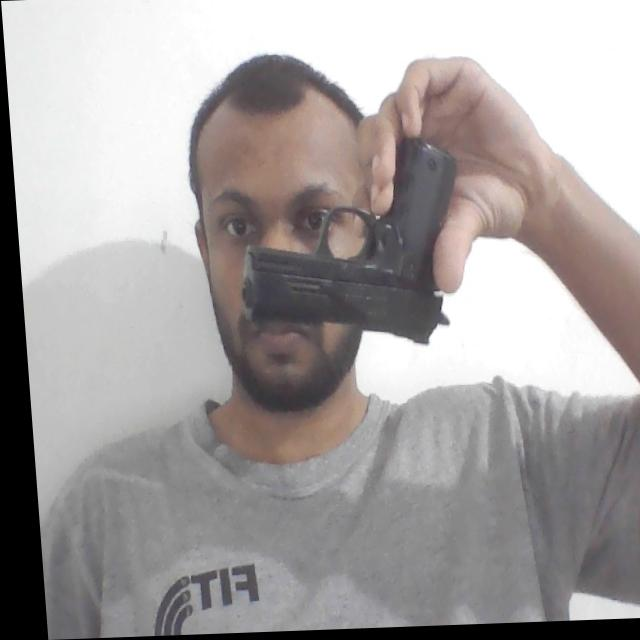handgun: (223, 133, 465, 357)
